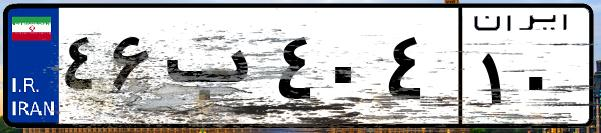0: (330, 28, 385, 110), (525, 38, 570, 115)
1: (475, 38, 525, 113)
4: (270, 28, 330, 110), (385, 28, 445, 110), (57, 26, 110, 100)
6: (110, 28, 158, 98)
ب: (158, 20, 270, 120)
